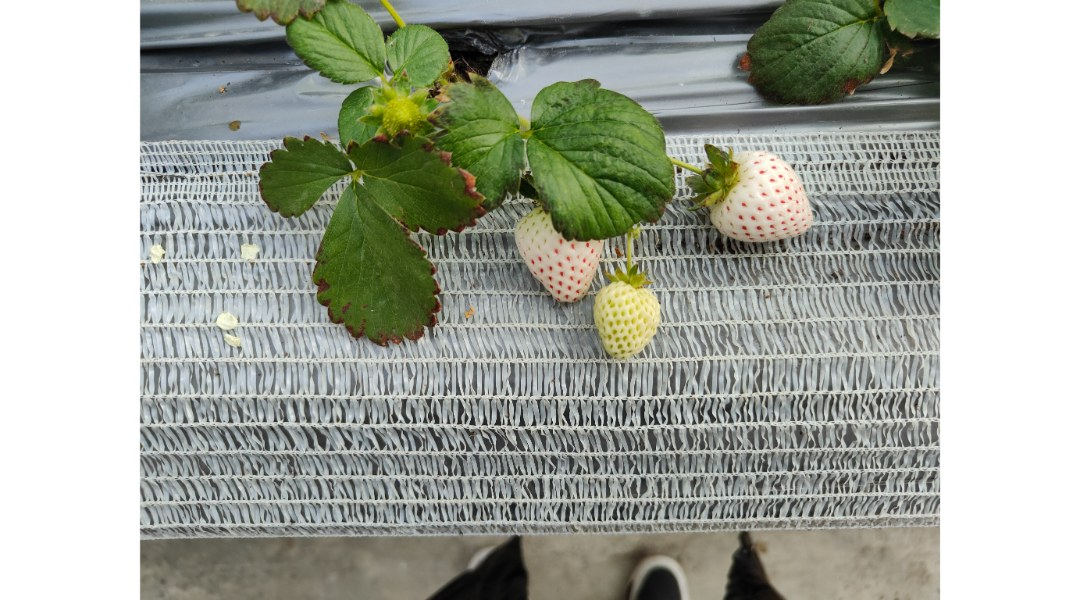berry: (688, 134, 823, 246), (499, 192, 606, 305), (582, 265, 663, 370), (362, 70, 437, 151)
